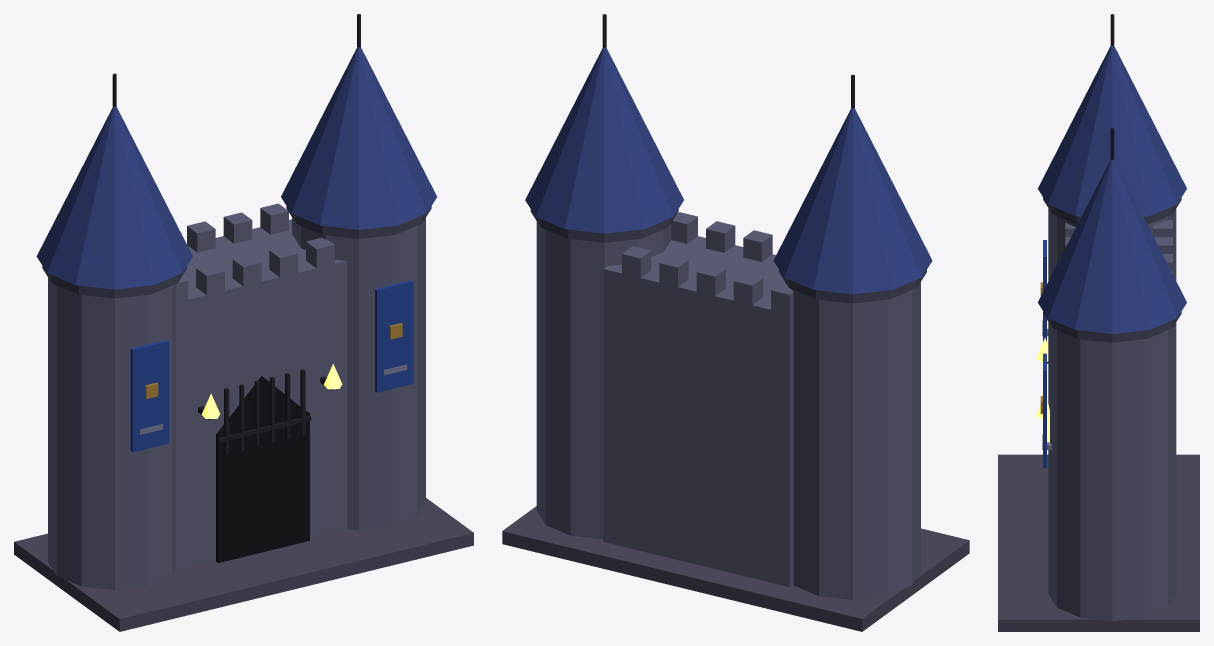
Rendered from igw-castle-gate.glb.
3 views of the same model, side by side, from view 1: azimuth 30°, elevation 25°; view 2: azimuth 150°, elevation 25°; view 3: azimuth 270°, elevation 25° (orthographic). The views are drawn at different scales.
Parts seen in each view (by area): view 1: cw_paint; view 2: cw_paint; view 3: cw_paint, cw_glow.
Part boxes in pixels (x1=…): cw_paint: x1=14, y1=14, x2=473, y2=631; cw_paint: x1=502, y1=14, x2=969, y2=631; cw_paint: x1=998, y1=14, x2=1199, y2=631; cw_glow: x1=1036, y1=320, x2=1049, y2=442.
Size of the model in its own units: 6.22 by 7.83 by 3.
